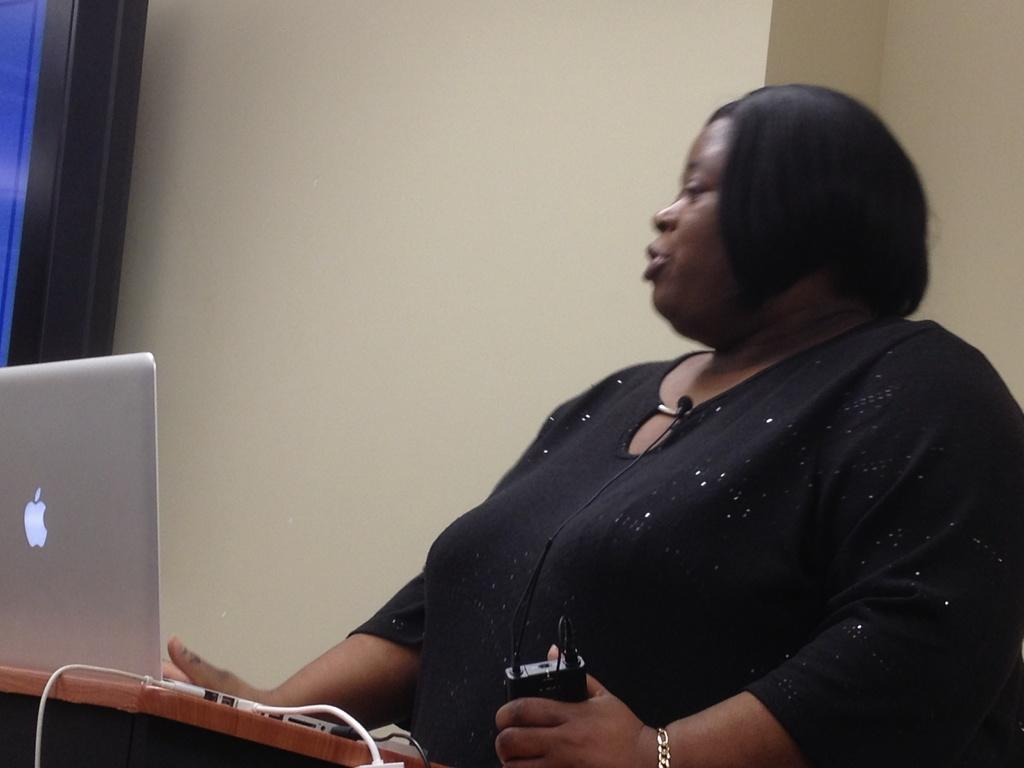Laptop: (0, 349, 356, 742)
